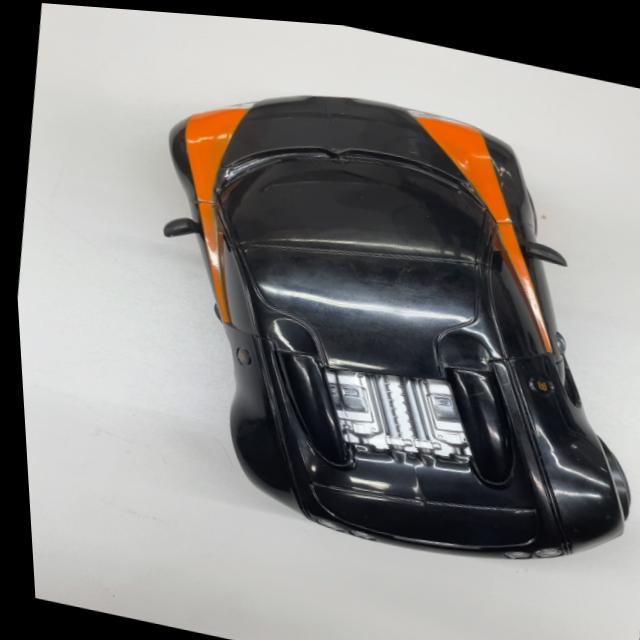vehicle_body: (95, 47, 640, 597)
